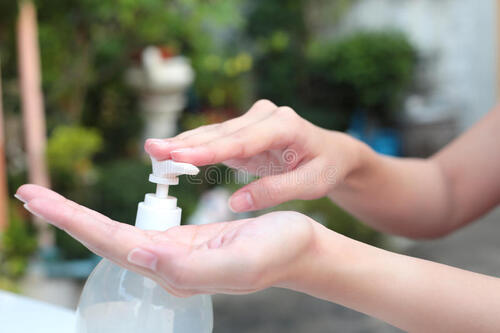sanitizer: (133, 156, 201, 230)
